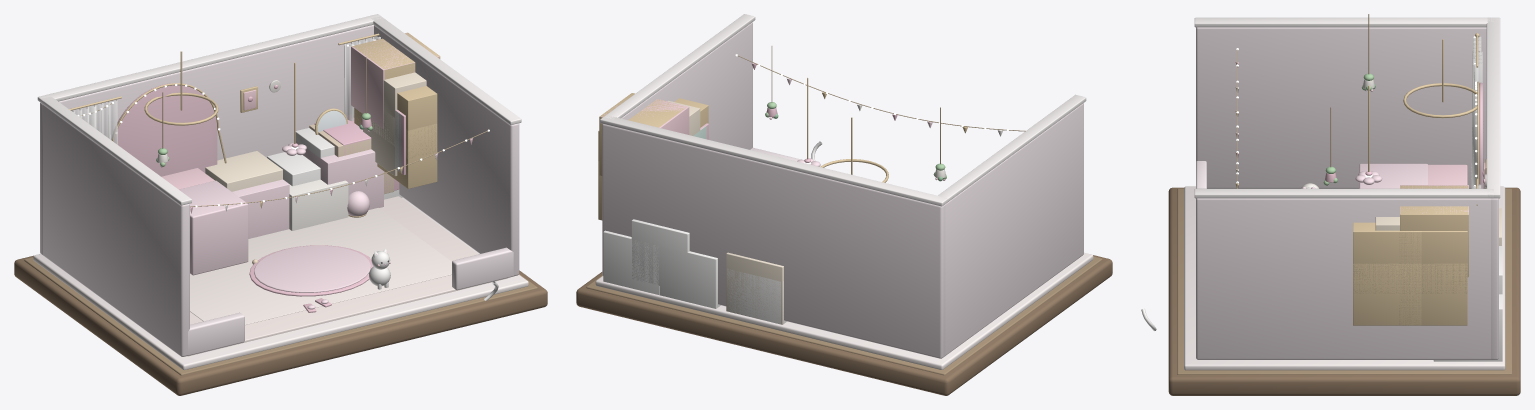
The model's file is dream-room.glb.
The picture shows the model from 3 angles, left to right: view 1: azimuth 30°, elevation 25°; view 2: azimuth 150°, elevation 25°; view 3: azimuth 270°, elevation 25°; orthographic projection. The views are drawn at different scales.
Parts seen in each view (by area): view 1: WallWest, WallNorth, WallEast, FloorInlay, Plinth, ArchPanel, Skirt, Floor, Blanket, Rug, CapNorth, PlinthHi (+24 smaller); view 2: WallNorth, WallWest, Plinth, WallEast, Skirt, CapNorth, PlinthHi, DeskTop, DeskSideL, DeskSideR, Nightstand, NightstandTop (+4 smaller); view 3: WallWest, WallEast, Plinth, Skirt, ShelfBr00, PlinthHi, ShelfBr01, ShelfBr10, CapEast, CapWest, ShelfBr11, CapNorth (+10 smaller).
Part boxes in pixels (<box>): WallWest: <box>43,105,189,356</box>; WallNorth: <box>40,25,373,255</box>; WallEast: <box>374,25,519,276</box>; FloorInlay: <box>190,208,451,324</box>; Plinth: <box>14,255,547,395</box>; ArchPanel: <box>111,83,217,176</box>; Skirt: <box>33,197,528,369</box>; Floor: <box>188,196,507,356</box>; Blanket: <box>179,180,248,275</box>; Rug: <box>254,245,370,292</box>; CapNorth: <box>37,14,381,103</box>; PlinthHi: <box>24,257,537,375</box>; WallNorth: <box>602,124,945,358</box>; WallWest: <box>945,103,1083,355</box>; Plinth: <box>576,255,1112,395</box>; WallEast: <box>621,22,752,149</box>; Skirt: <box>595,252,1093,369</box>; CapNorth: <box>600,116,947,206</box>; PlinthHi: <box>586,256,1102,375</box>; DeskTop: <box>631,219,689,291</box>; DeskSideL: <box>659,246,720,308</box>; DeskSideR: <box>603,230,659,295</box>; Nightstand: <box>727,268,786,324</box>; NightstandTop: <box>726,252,785,324</box>; WallWest: <box>1196,27,1486,188</box>; WallEast: <box>1196,198,1490,359</box>; Plinth: <box>1168,187,1520,395</box>; Skirt: <box>1184,186,1505,370</box>; ShelfBr00: <box>1353,263,1421,325</box>; PlinthHi: <box>1177,188,1511,374</box>; ShelfBr01: <box>1399,263,1467,325</box>; ShelfBr10: <box>1353,222,1421,293</box>; CapEast: <box>1194,188,1493,198</box>; CapWest: <box>1194,17,1493,27</box>; ShelfBr11: <box>1399,230,1467,293</box>; CapNorth: <box>1486,17,1500,198</box>.
Bounding box in the file's own units: 6.63 × 4.45 × 5.5.
